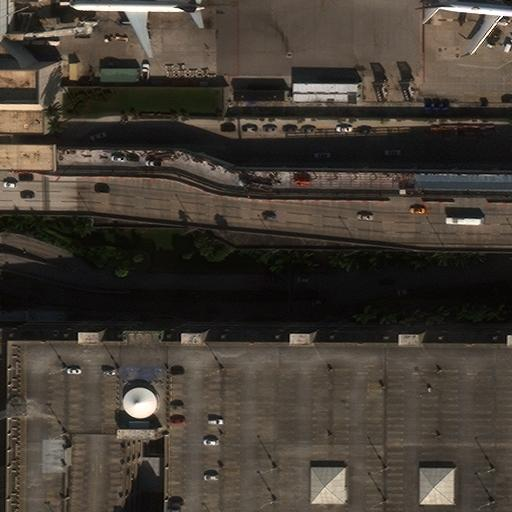Large Civil Transport: (68, 0, 205, 57)
Medium Civil Transport: (423, 0, 511, 55)
